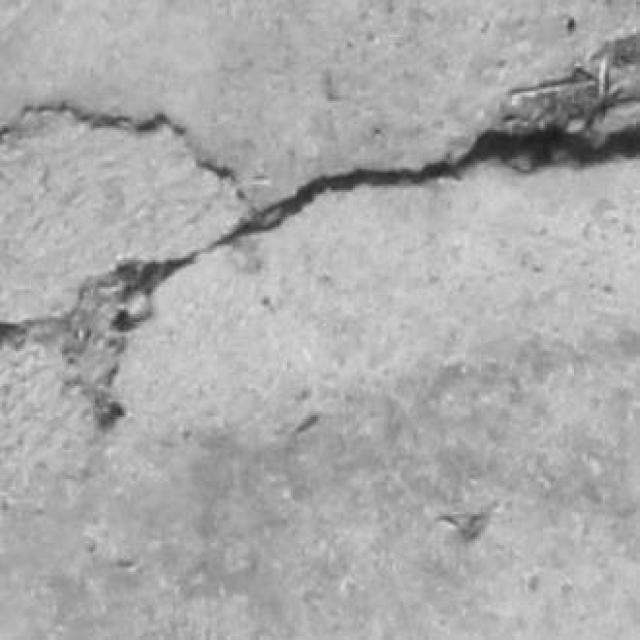crack: (0, 127, 639, 428), (210, 125, 639, 248), (0, 256, 195, 430), (0, 101, 248, 201), (502, 31, 638, 132)
